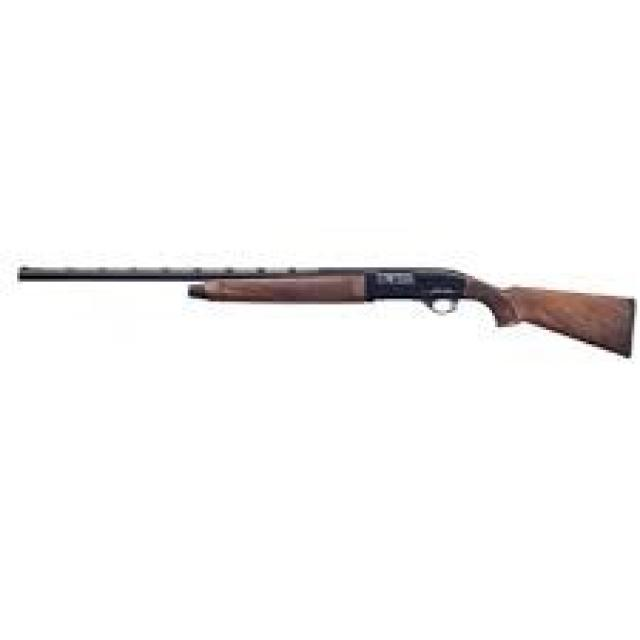rifle: (10, 251, 640, 380)
